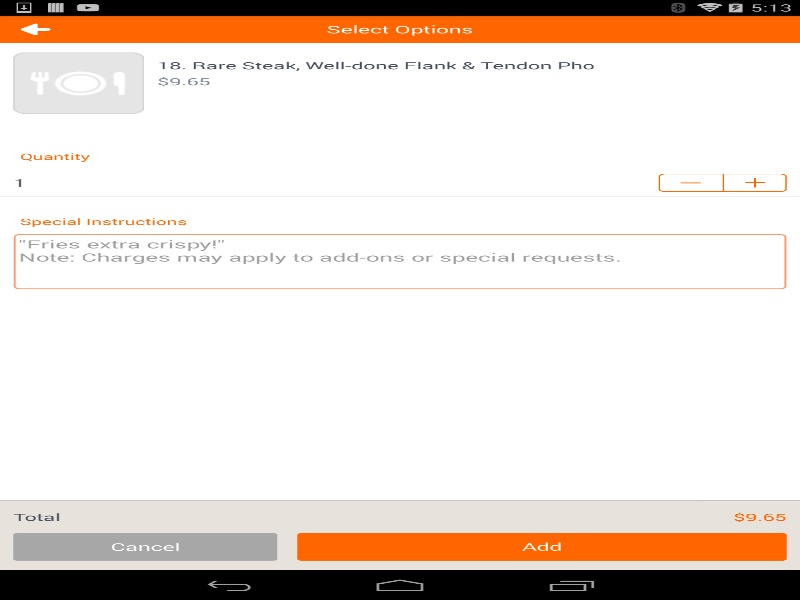Button: (297, 533, 786, 560), (13, 533, 277, 560), (658, 173, 722, 191), (722, 173, 786, 191), (13, 19, 57, 39)
Input: (13, 233, 786, 289)
